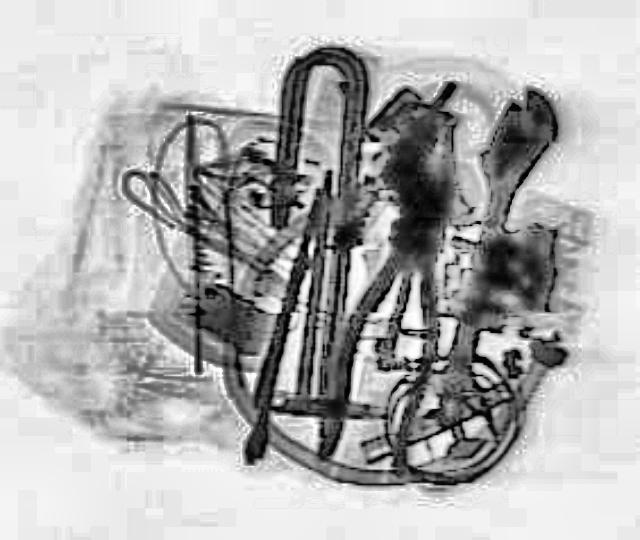Pliers: (304, 112, 490, 476)
Wrench: (412, 79, 566, 423)
